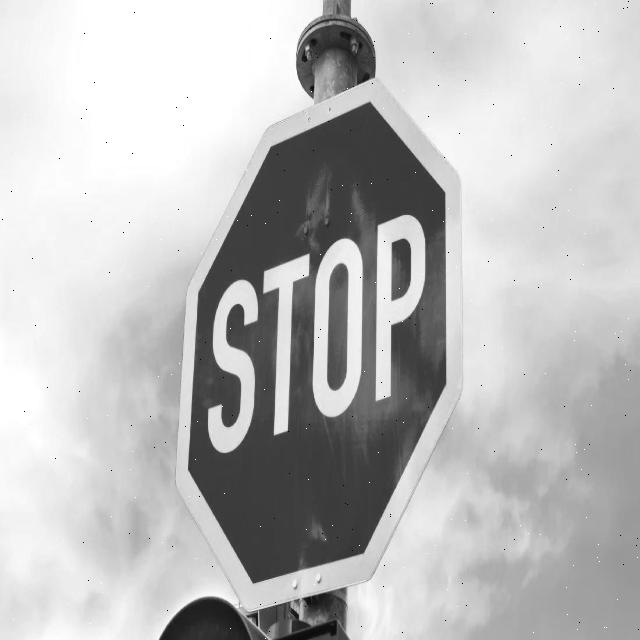Stop-sign: (169, 63, 470, 621)
